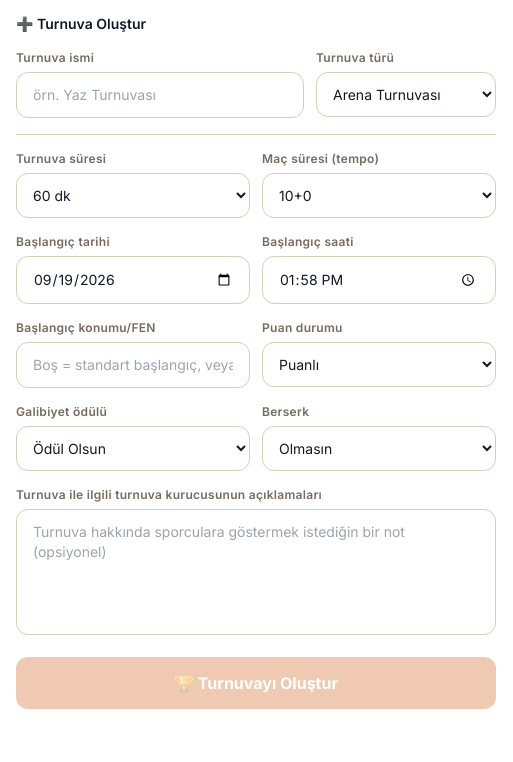
Test case: Turnuva Oluştur — /play/tournament/create › 422 doğrulama hatasında pydantic mesajını gösterir
In the field labelled "Turnuva ismi": point(160, 95) [16,72,304,118], type "X"
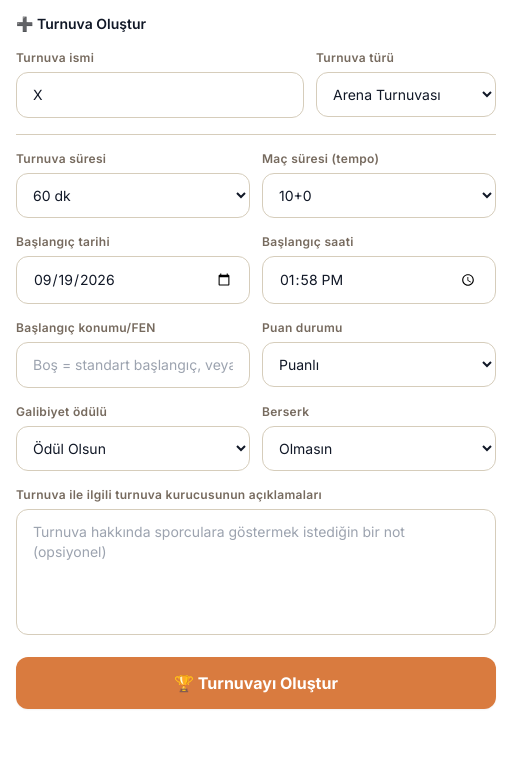
Click the button "🏆 Turnuvayı Oluştur": point(256, 683) [16,657,496,709]
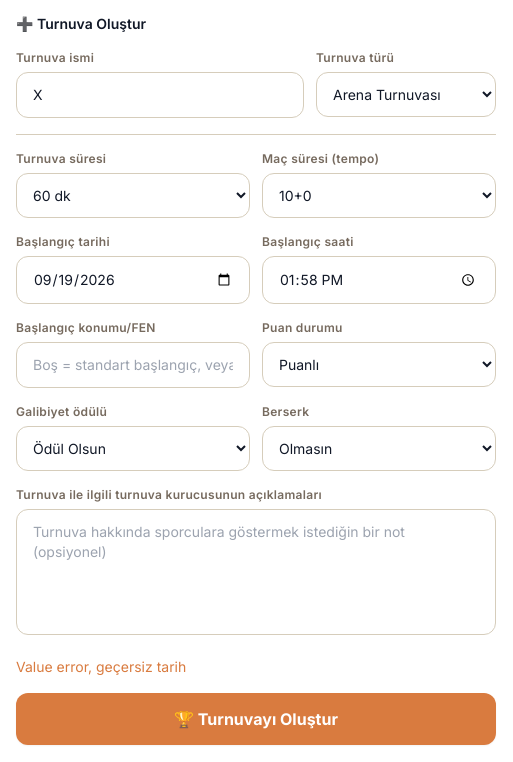
Now the text "Value error, geçersiz tarih" is shown, box [16,658,186,675]
